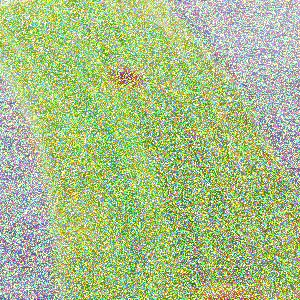Bacterial_Leaf_Blight: (105, 61, 156, 94), (202, 125, 218, 139), (228, 179, 244, 190), (185, 279, 198, 289), (209, 114, 223, 122)
